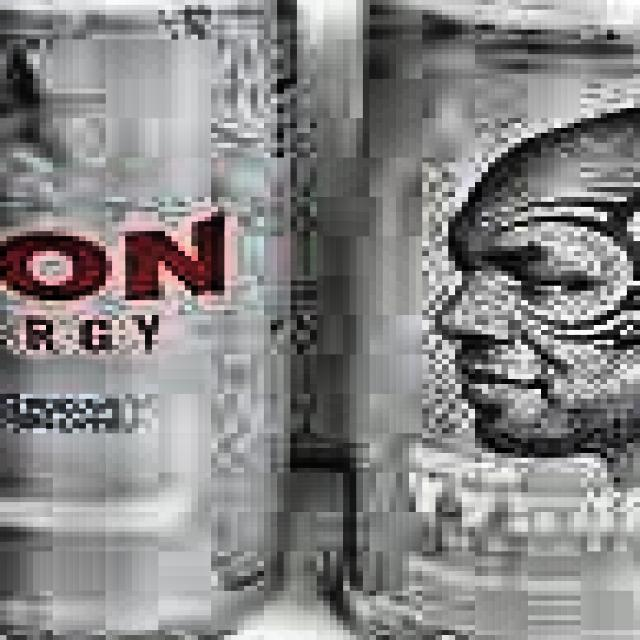metal: (0, 0, 323, 640), (343, 0, 640, 640)
